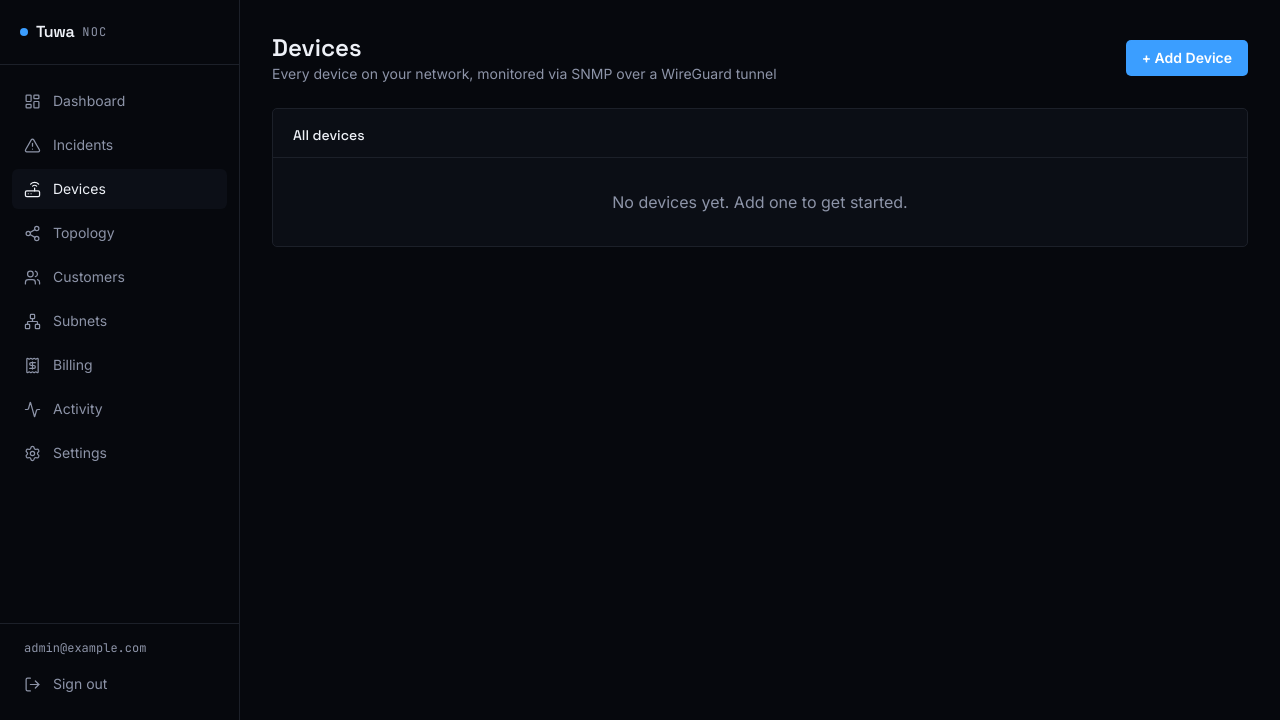
Test: Devices › generates a code and shows the single one-paste command containing it
The image size is (1280, 720).
Check: the text "No devices yet. Add one to get started." is shown, box [612,192,908,212]
Click the button "+ Add Device": (1187, 58) [1126,40,1248,76]
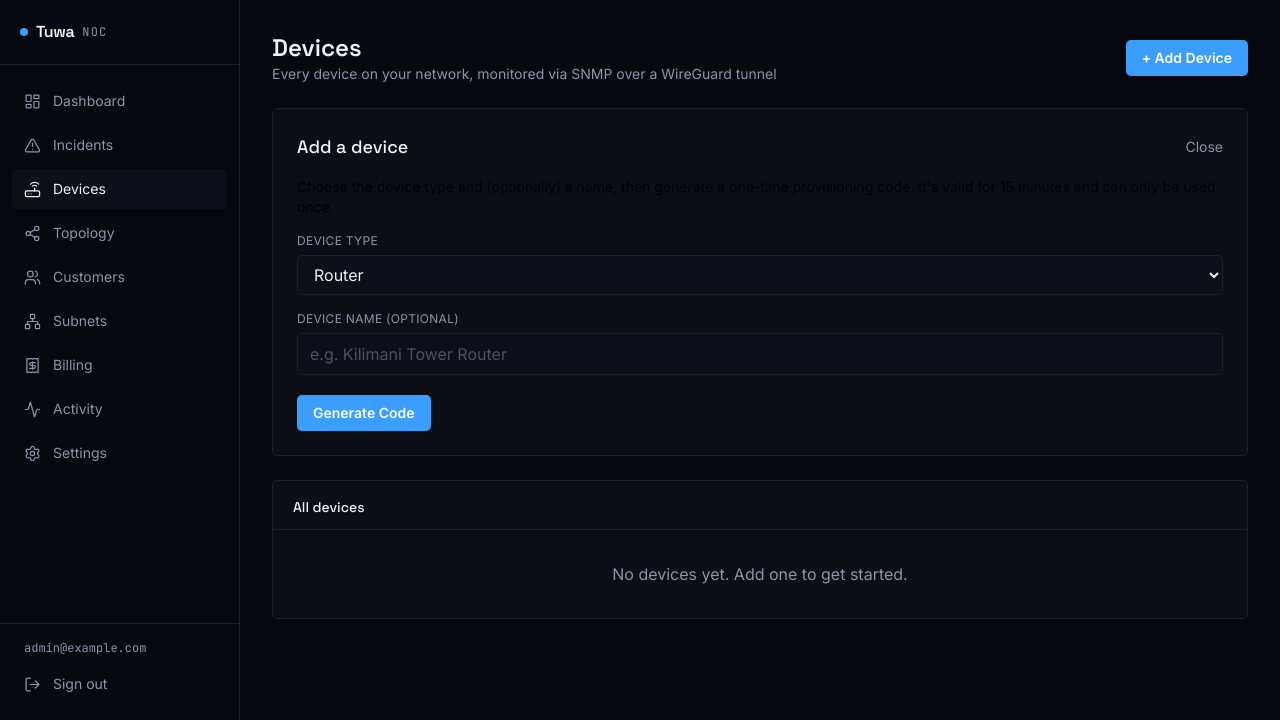
Select "OLT" in the dropdown labelled "Device type": (760, 275) [297,255,1223,295]
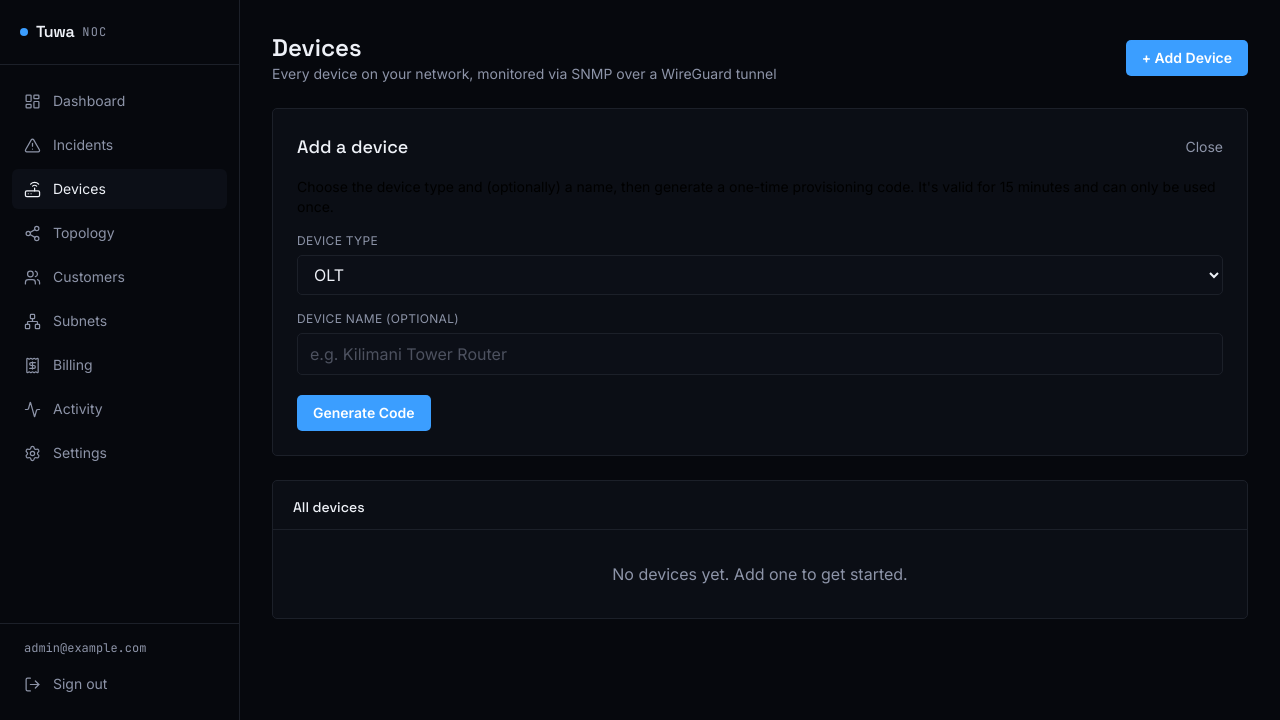
In the field labelled "Device name (optional)": (760, 354) [297,333,1223,375], type "Test OLT"
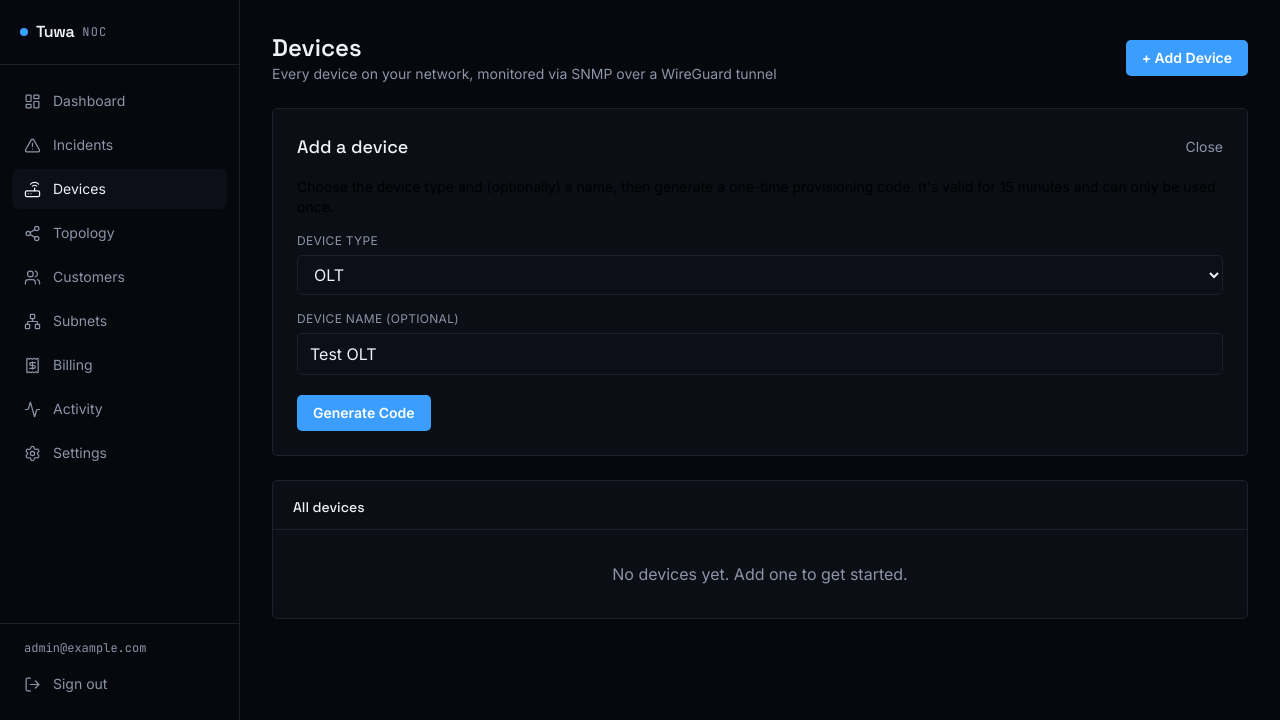
Click the button "Generate Code": (364, 413) [297,395,430,431]
(page scrolled)
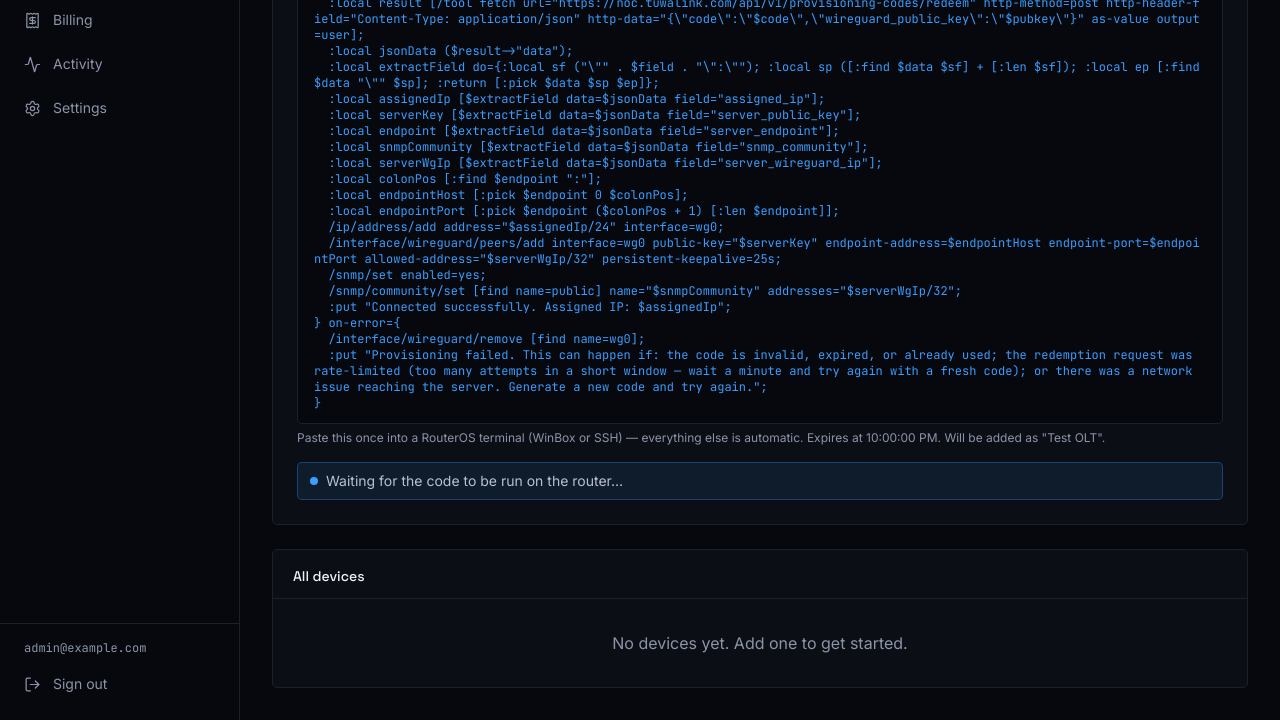
Check: the text "Waiting for the code to be run on the router…" is shown, box [297,462,1223,500]
